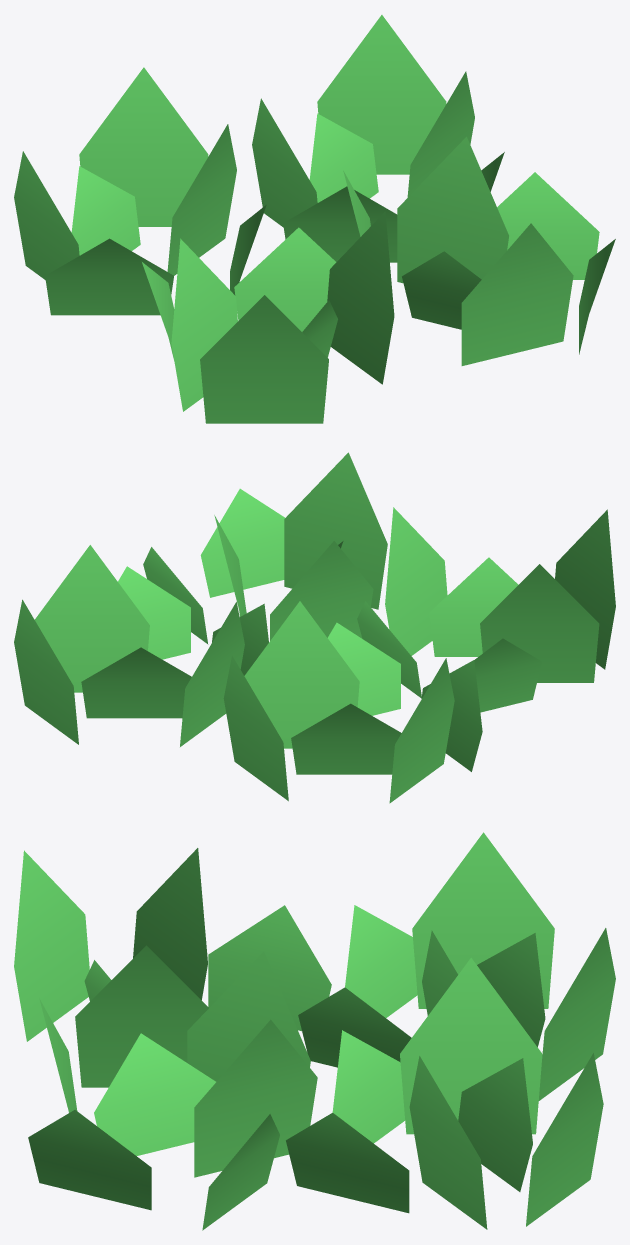
File: n_grass_leafsLarge.glb
3 views of the same model, one above another, from view 1: azimuth 30°, elevation 25°; view 2: azimuth 150°, elevation 25°; view 3: azimuth 270°, elevation 25° (orthographic). The views are drawn at different scales.
Parts seen in each view (by area): view 1: grass_leafsLarge; view 2: grass_leafsLarge; view 3: grass_leafsLarge.
Boxes of the visible parts, left/top/right/bottom form: grass_leafsLarge: left=14, top=15, right=615, bottom=423; grass_leafsLarge: left=14, top=452, right=615, bottom=803; grass_leafsLarge: left=14, top=832, right=615, bottom=1230.
Bounding box in the file's own units: 1.34 × 0.4 × 1.37.
